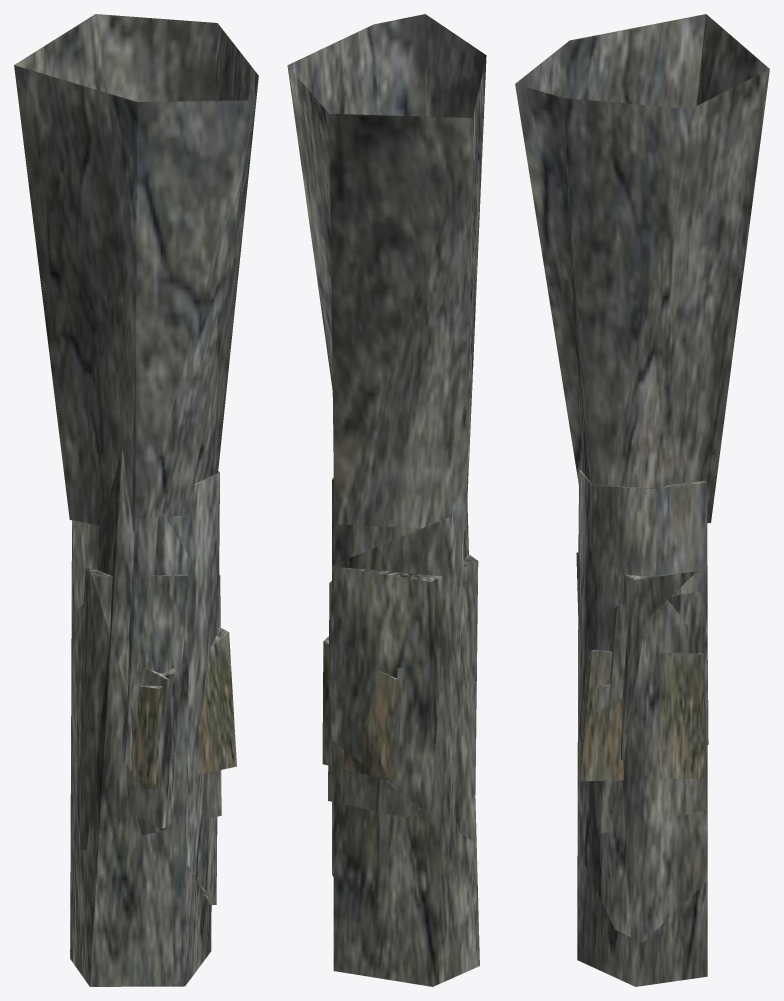
3 views of the same model, side by side, from view 1: azimuth 30°, elevation 25°; view 2: azimuth 150°, elevation 25°; view 3: azimuth 270°, elevation 25° (orthographic).
Parts seen in each view (by area): view 1: 0, 5, 6, 4, 1, 3, 2; view 2: 0, 5, 4, 1, 6, 3, 2; view 3: 0, 6, 5, 1, 3, 4.
Part boxes in pixels (x1,y1,x2,y2): 0: (14,14,258,531); 5: (70,448,211,986); 6: (74,471,219,905); 4: (77,567,189,850); 1: (79,627,236,784); 3: (126,574,221,828); 2: (142,668,169,789); 0: (287,14,486,530); 5: (333,500,479,986); 4: (331,554,478,841); 1: (322,636,466,780); 6: (332,477,463,876); 3: (328,581,421,817); 2: (393,668,403,779); 0: (515,14,769,523); 6: (577,470,707,942); 5: (577,535,707,986); 1: (580,649,704,781); 3: (594,590,705,833); 4: (576,552,708,760).
Bounding box in the file's own units: 35.59 × 156 × 40.35.
